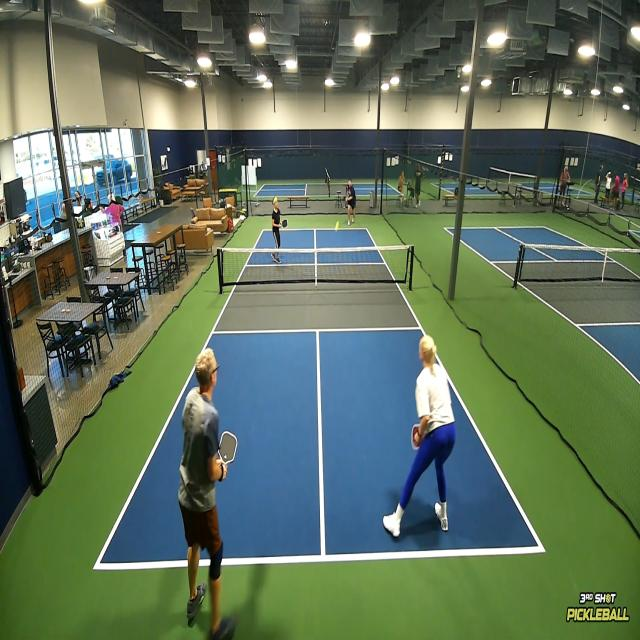Pickleball: (334, 218, 340, 234)
